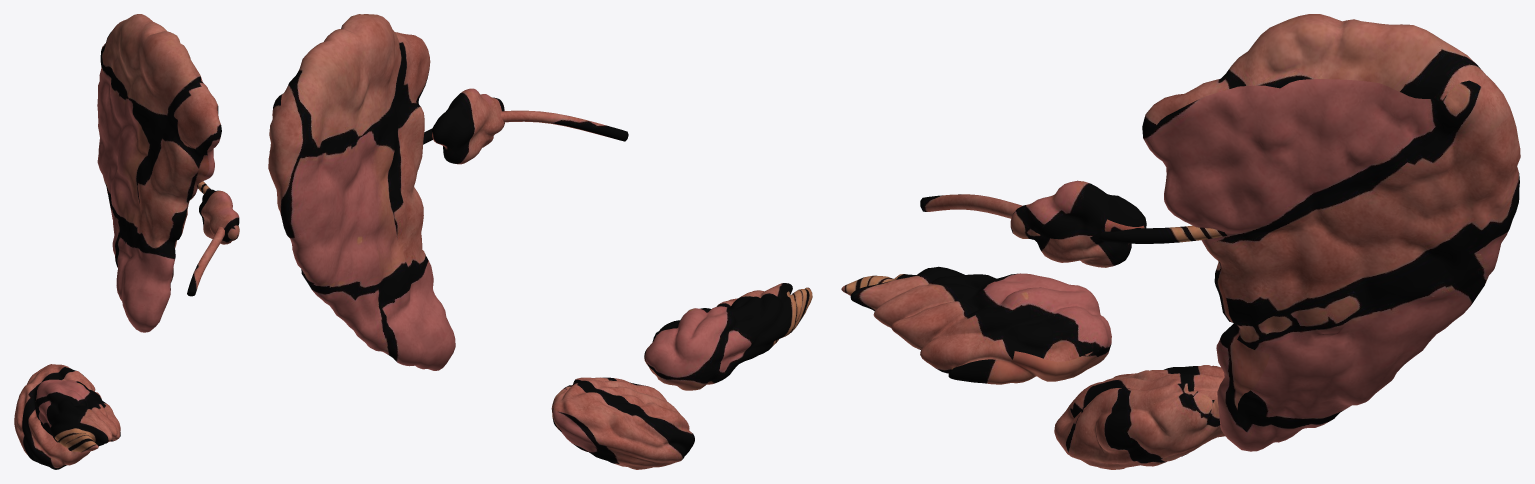
File: Endocrine.Salivary_glands.Parotid_R.001.obj
3 renders of one model, left to right at view 1: azimuth 30°, elevation 25°; view 2: azimuth 150°, elevation 25°; view 3: azimuth 270°, elevation 25°, orthographic. The views are drawn at different scales.
Parts seen in each view (by area): view 1: Endocrine:Salivary_glands:Parotid_R.001_Salivary_glands.000; view 2: Endocrine:Salivary_glands:Parotid_R.001_Salivary_glands.000; view 3: Endocrine:Salivary_glands:Parotid_R.001_Salivary_glands.000.
Part boxes in pixels (x1,y1,x2,y2): Endocrine:Salivary_glands:Parotid_R.001_Salivary_glands.000: [14, 14, 239, 469]; Endocrine:Salivary_glands:Parotid_R.001_Salivary_glands.000: [268, 14, 812, 469]; Endocrine:Salivary_glands:Parotid_R.001_Salivary_glands.000: [841, 14, 1520, 469].
Bounding box in the file's own units: 0.3586 × 0.485 × 0.5114.
